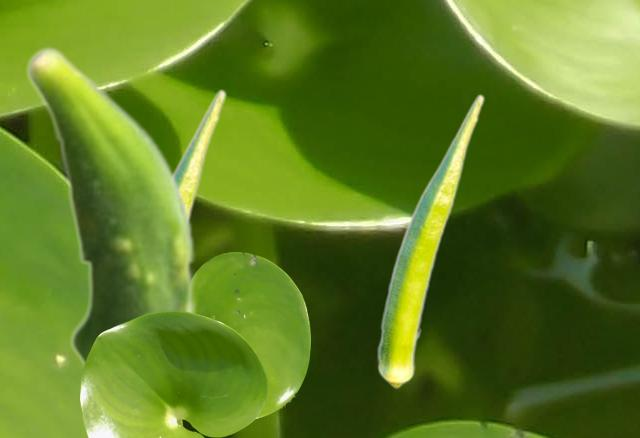okra: (24, 45, 197, 371), (377, 93, 484, 388), (174, 88, 226, 219)
